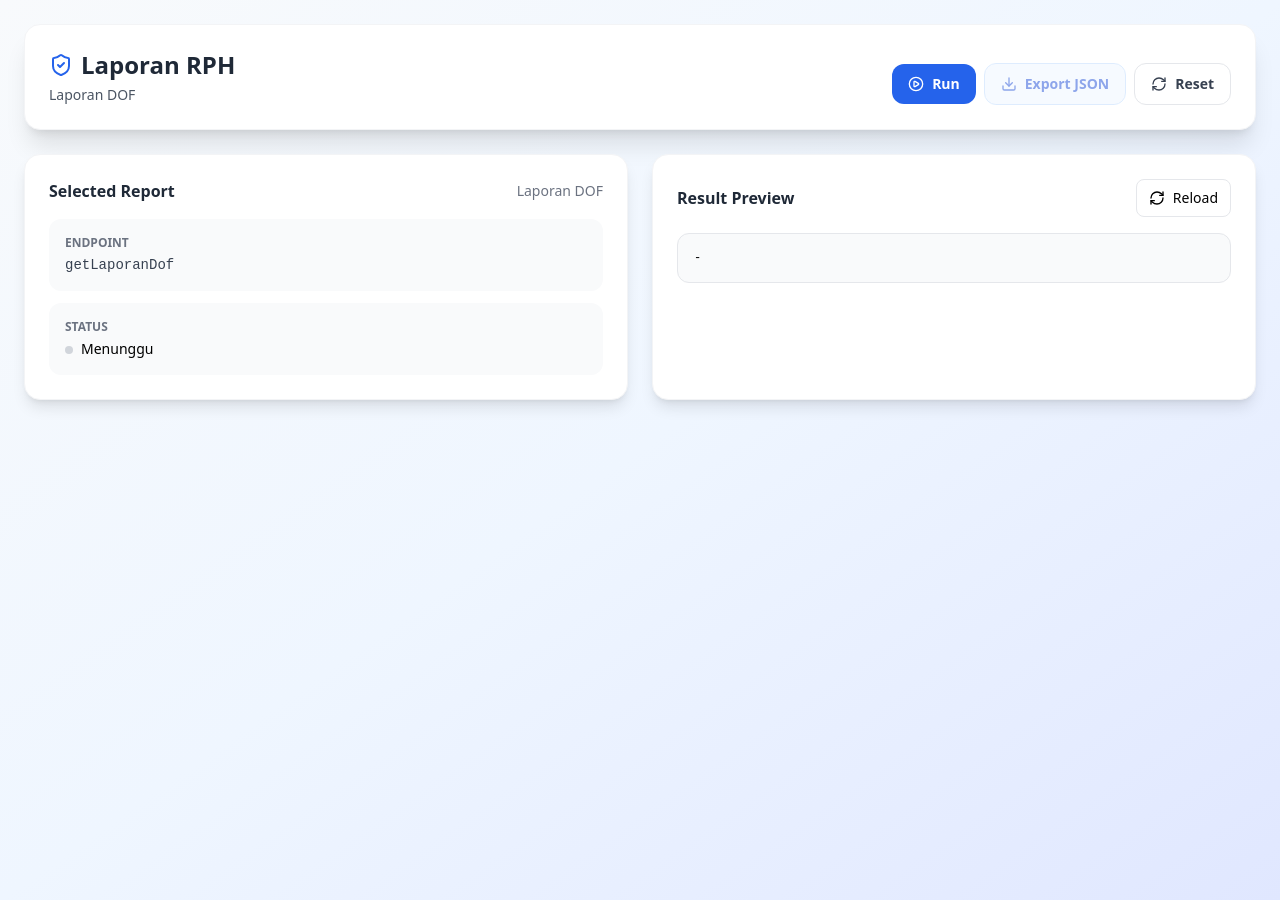
it: assigned report opens its own endpoint without unrelated report actions
This screenshot has width=1280, height=900.
What coordinates should you click on to do the following:
click the button "Run"
I would click on:
 (934, 84)
Its box is [892,64,976,104].
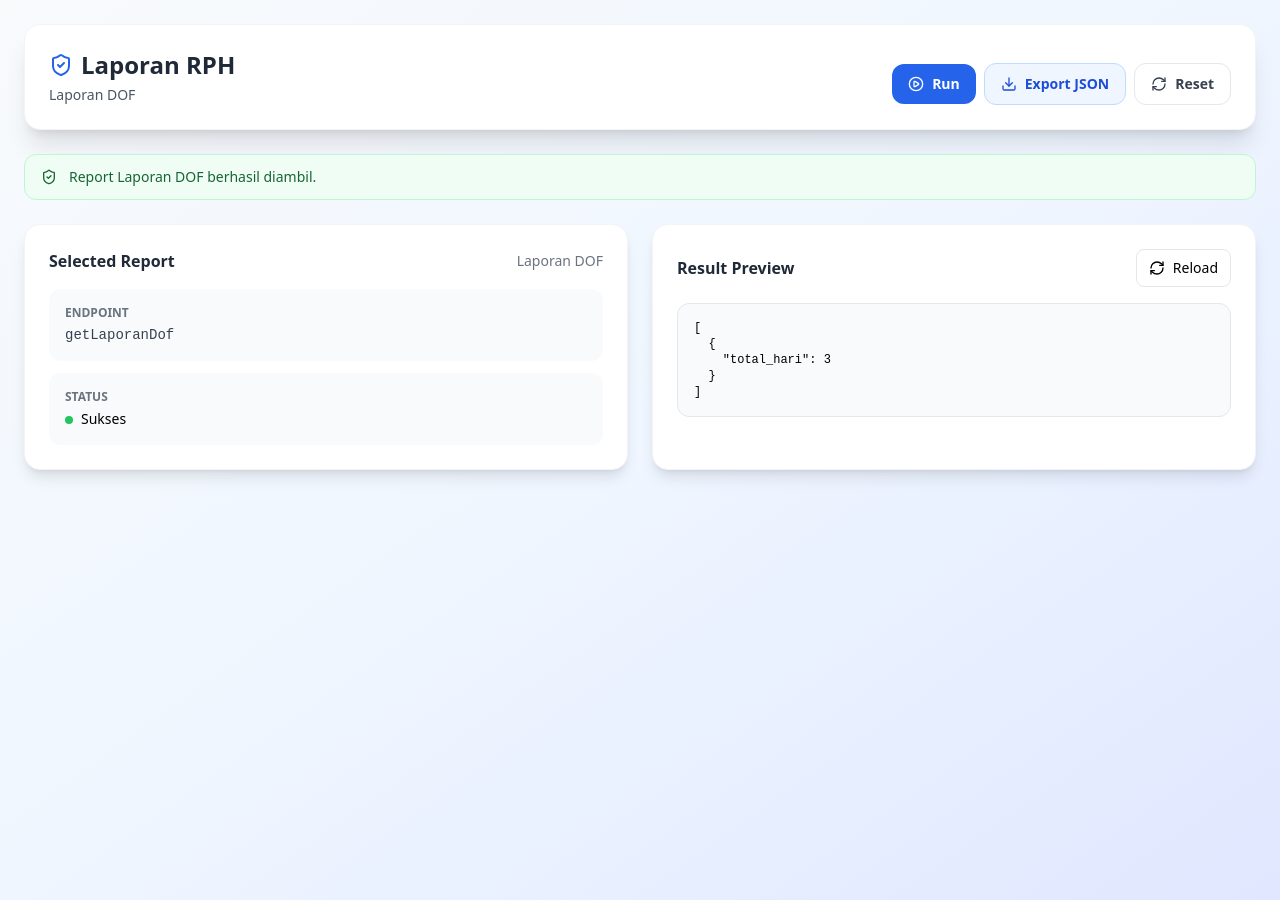
Expected: the text "[ { \"total_hari\": 3 } ]" is shown, [677,303,1231,417]
